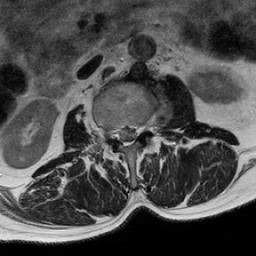CCS_normal: (123, 116, 131, 153)
LFS_normal: (139, 113, 147, 140)
LLS_normal: (131, 116, 139, 148)
RFS_normal: (106, 117, 115, 147)
RLS_normal: (115, 117, 123, 148)
